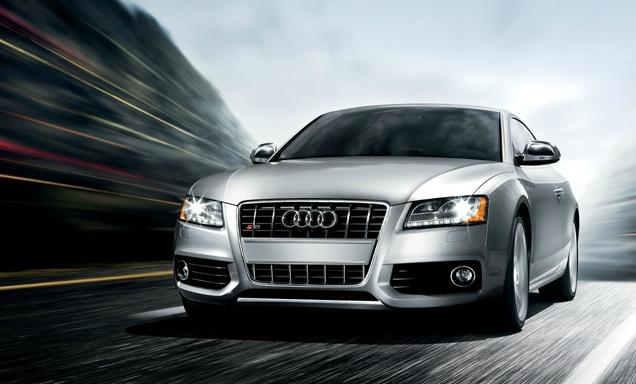Audi: (275, 200, 341, 235)
